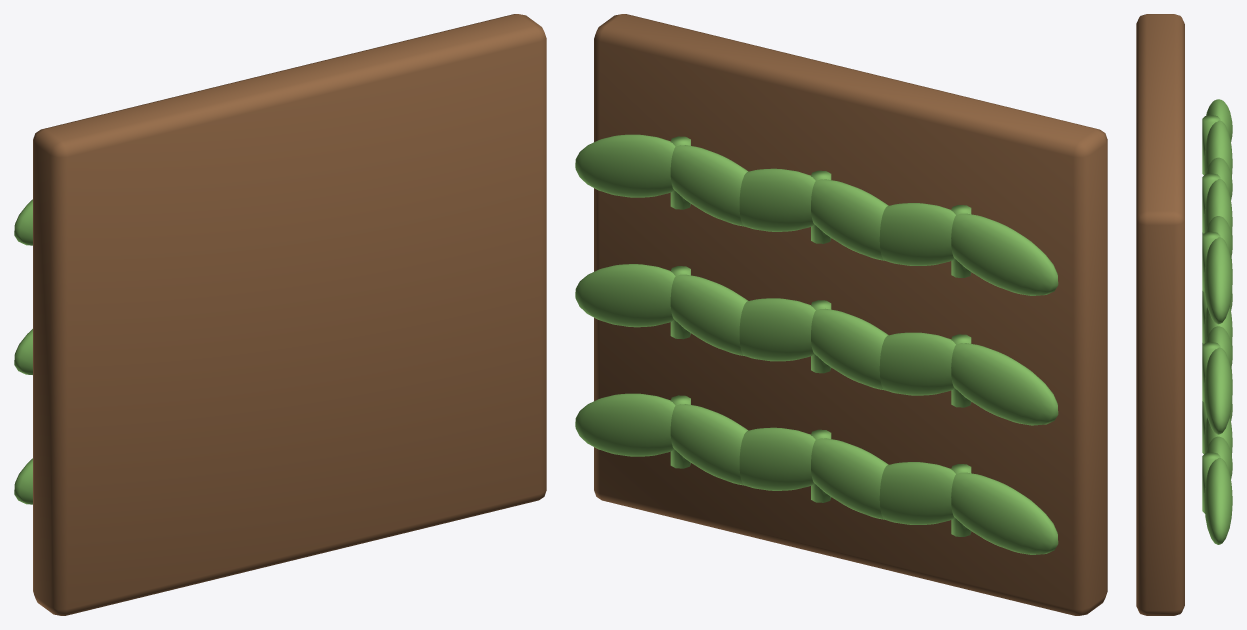
File: corn_sprout.glb
3 views of the same model, side by side, from view 1: azimuth 30°, elevation 25°; view 2: azimuth 150°, elevation 25°; view 3: azimuth 270°, elevation 25° (orthographic). The views are drawn at different scales.
Visible parts, largest first — view 1: Soil; view 2: Soil, Leaf, Leaf.004, Leaf.002, Leaf.013, Leaf.017, Leaf.015, Leaf.003, Leaf.009, Leaf.007, Leaf.011, Leaf.001 (+7 smaller); view 3: Soil, Leaf.017, Leaf.015, Leaf.013, Leaf.005, Leaf.011, Leaf.016, Leaf.010, Leaf.004, Leaf.012, Leaf.014, Leaf.009 (+8 smaller).
Part boxes in pixels (left/top/right/bottom): Soil: left=33, top=14, right=546, bottom=615; Soil: left=594, top=14, right=1107, bottom=615; Leaf: left=951, top=472, right=1058, bottom=554; Leaf.004: left=951, top=213, right=1058, bottom=295; Leaf.002: left=951, top=343, right=1058, bottom=425; Leaf.013: left=575, top=393, right=675, bottom=456; Leaf.017: left=575, top=134, right=675, bottom=197; Leaf.015: left=575, top=264, right=675, bottom=327; Leaf.003: left=879, top=332, right=955, bottom=395; Leaf.009: left=739, top=298, right=815, bottom=361; Leaf.007: left=739, top=427, right=815, bottom=490; Leaf.011: left=739, top=168, right=815, bottom=231; Leaf.001: left=879, top=462, right=955, bottom=524; Soil: left=1136, top=14, right=1184, bottom=615; Leaf.017: left=1204, top=237, right=1232, bottom=324; Leaf.015: left=1204, top=347, right=1232, bottom=434; Leaf.013: left=1204, top=458, right=1232, bottom=544; Leaf.005: left=1204, top=120, right=1232, bottom=177; Leaf.011: left=1204, top=179, right=1232, bottom=235; Leaf.016: left=1206, top=216, right=1232, bottom=258; Leaf.010: left=1206, top=157, right=1232, bottom=199; Leaf.004: left=1206, top=99, right=1232, bottom=141; Leaf.012: left=1206, top=436, right=1232, bottom=478; Leaf.014: left=1206, top=326, right=1232, bottom=368; Leaf.009: left=1204, top=306, right=1232, bottom=346.
Size of the model in its own units: 1.2 by 1.1 by 0.238.
